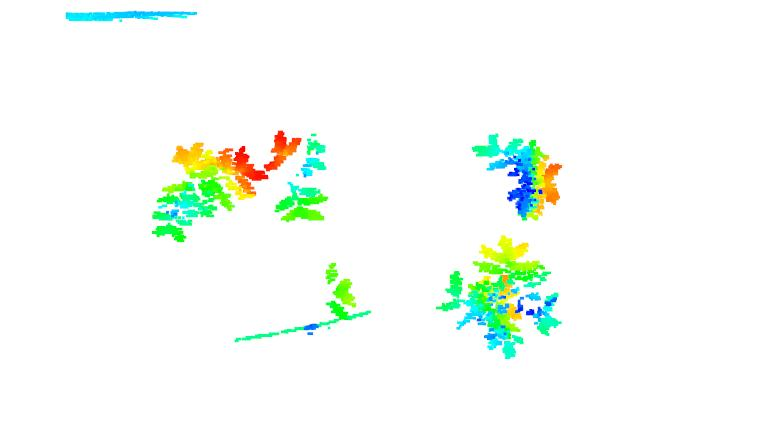chickpea: (149, 142, 268, 245), (473, 231, 570, 335), (433, 269, 525, 363), (473, 129, 562, 220), (263, 128, 336, 221), (322, 259, 358, 321)
